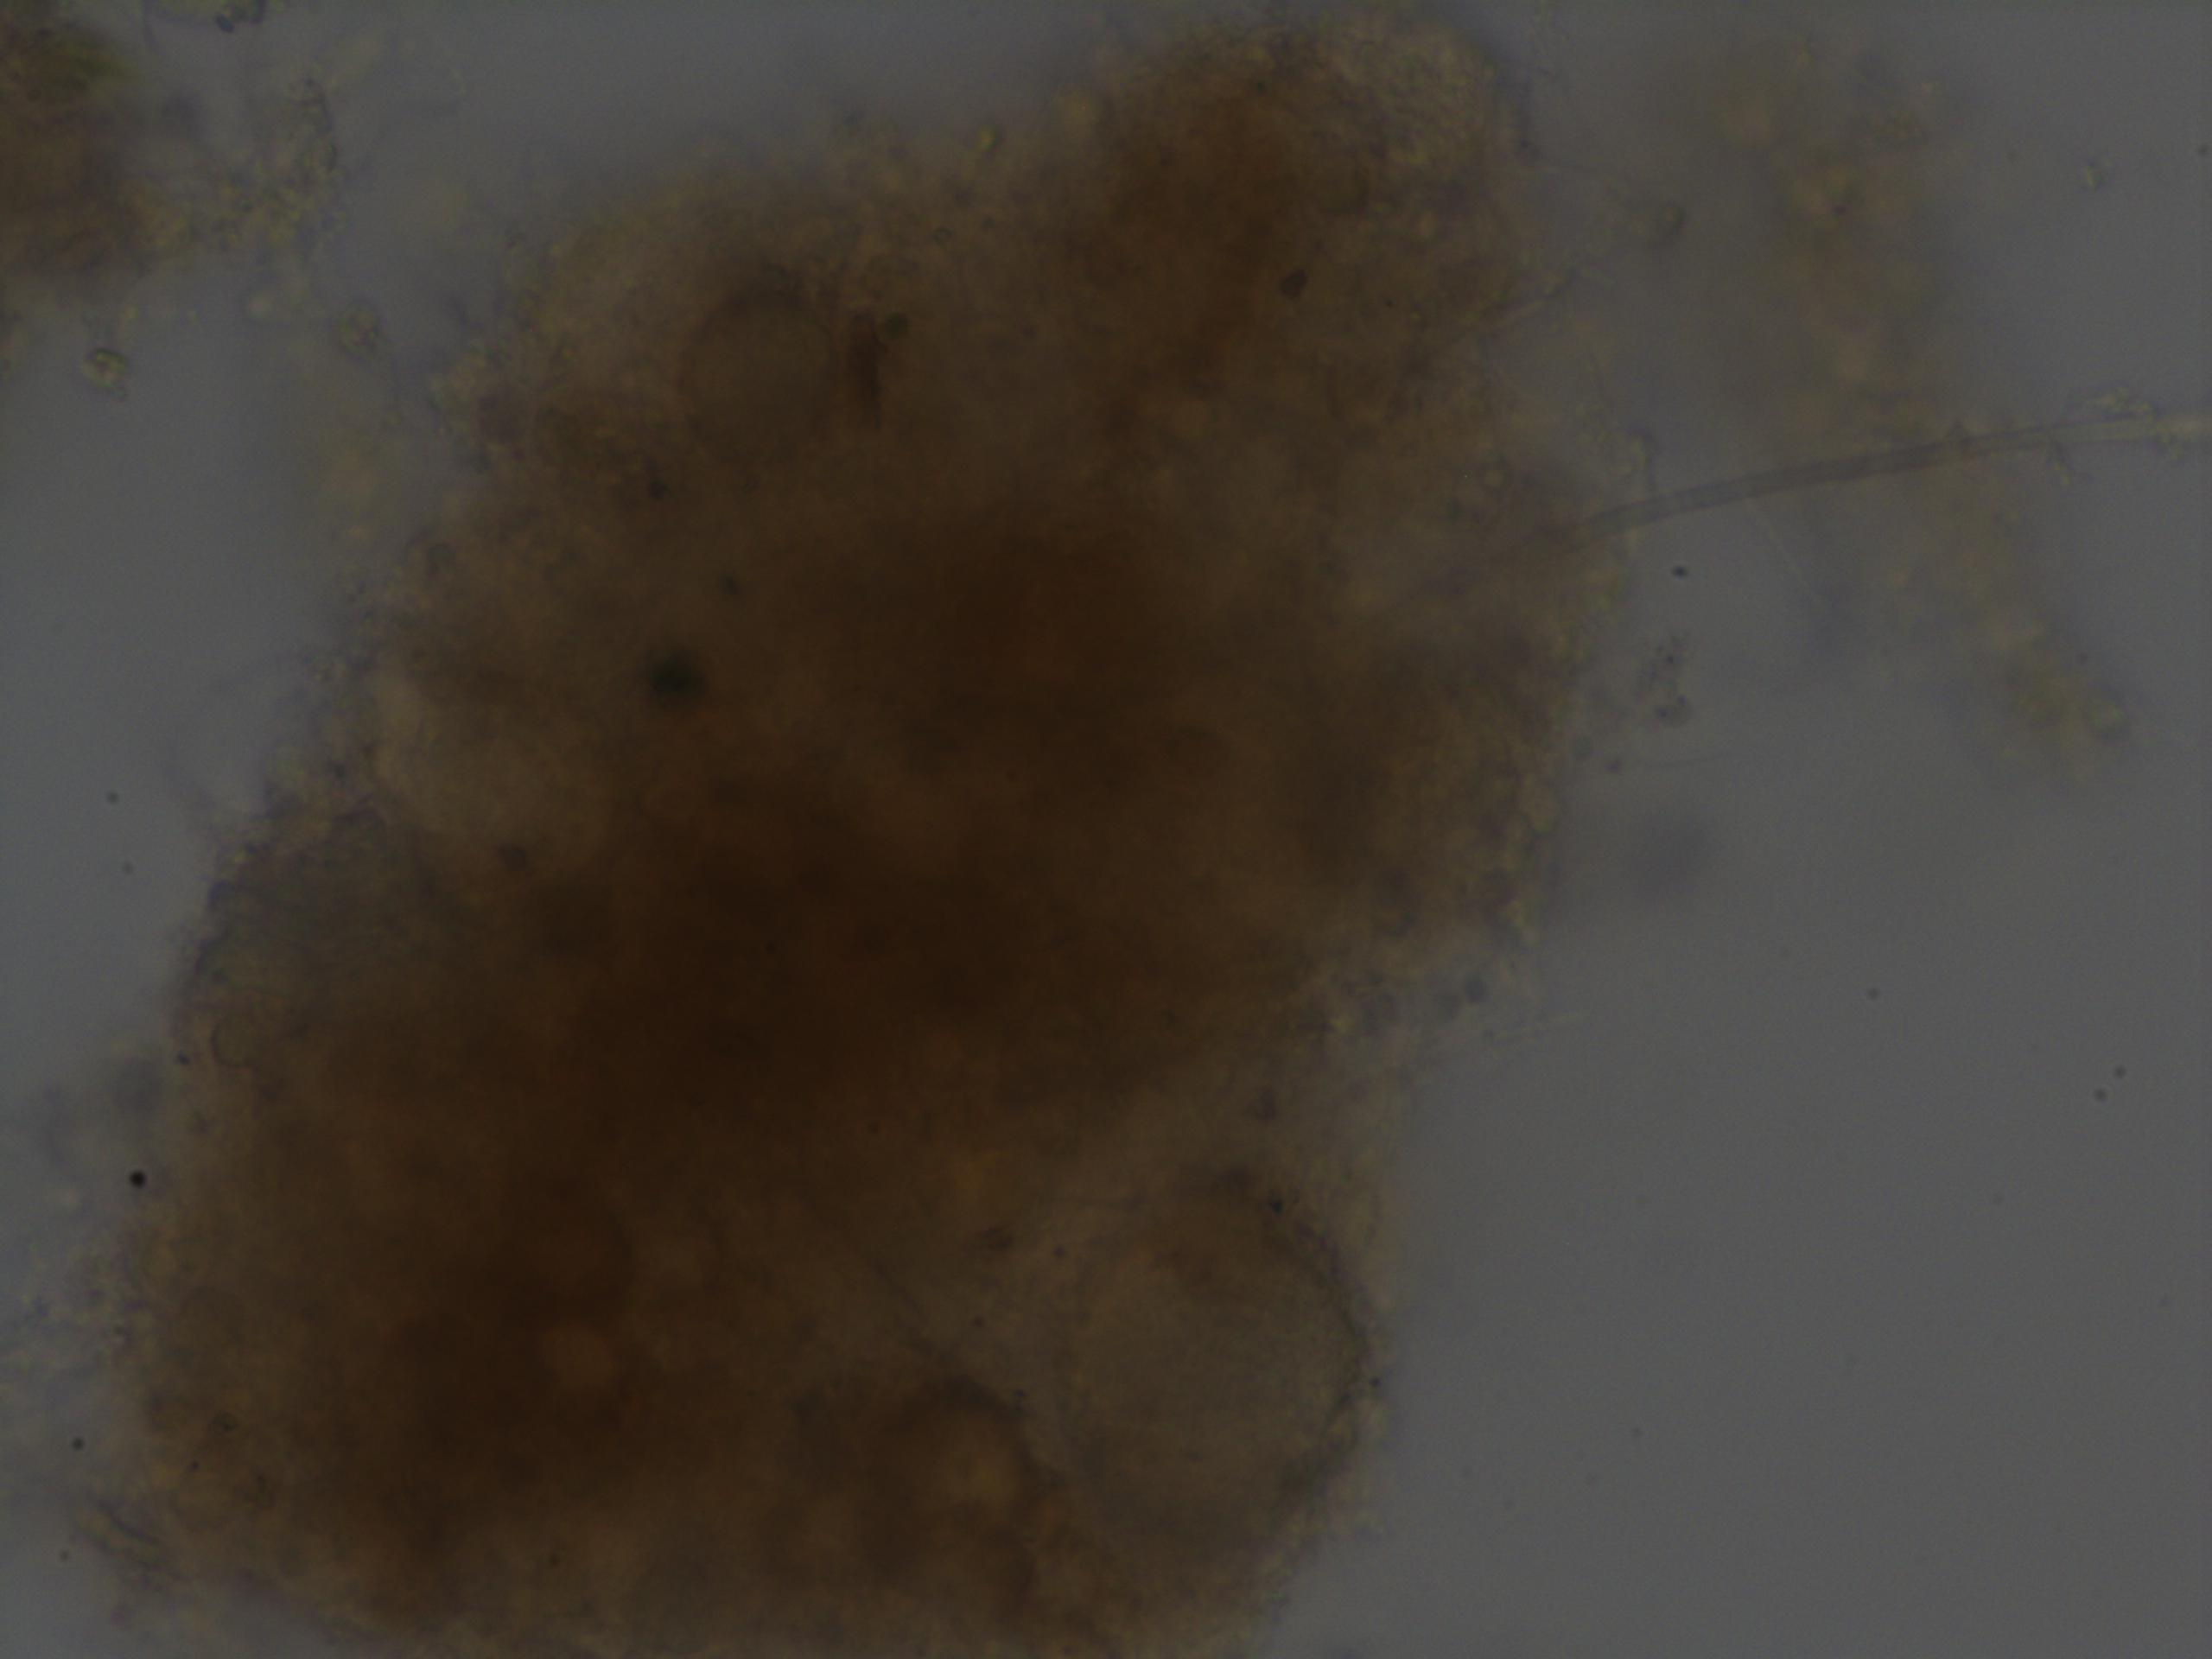filament: (1411, 359, 2212, 629)
spherical_floc: (106, 0, 1601, 1654)
